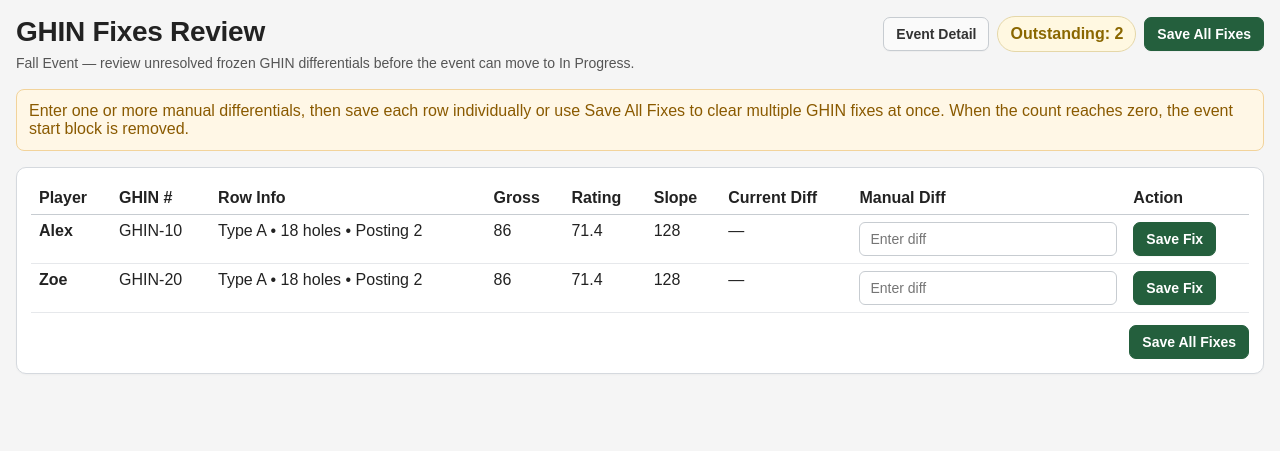
Test: Trip GHIN fixes page characterization (before extraction) › requires a manual differential before saving an individual row
Expected: the heading "GHIN Fixes Review" is shown, [16,16,265,47]
Expected: the text "Alex" is shown, [39,222,73,239]
Click the button "Save Fix" in the row of "Alex": x=1175, y=239 [1133,222,1216,256]
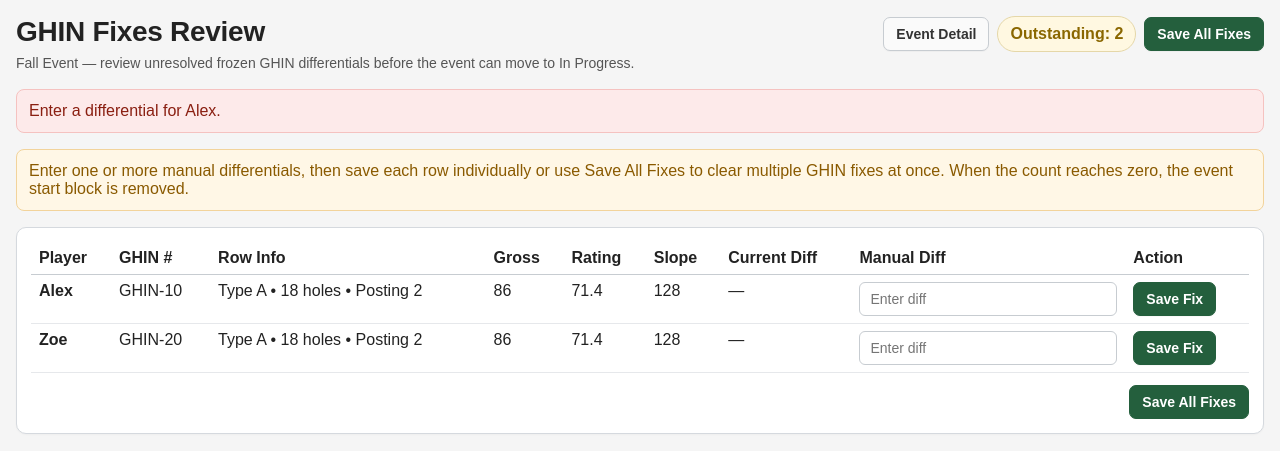
Now the text "Enter a differential for Alex." is shown, box [16,89,1264,133]
